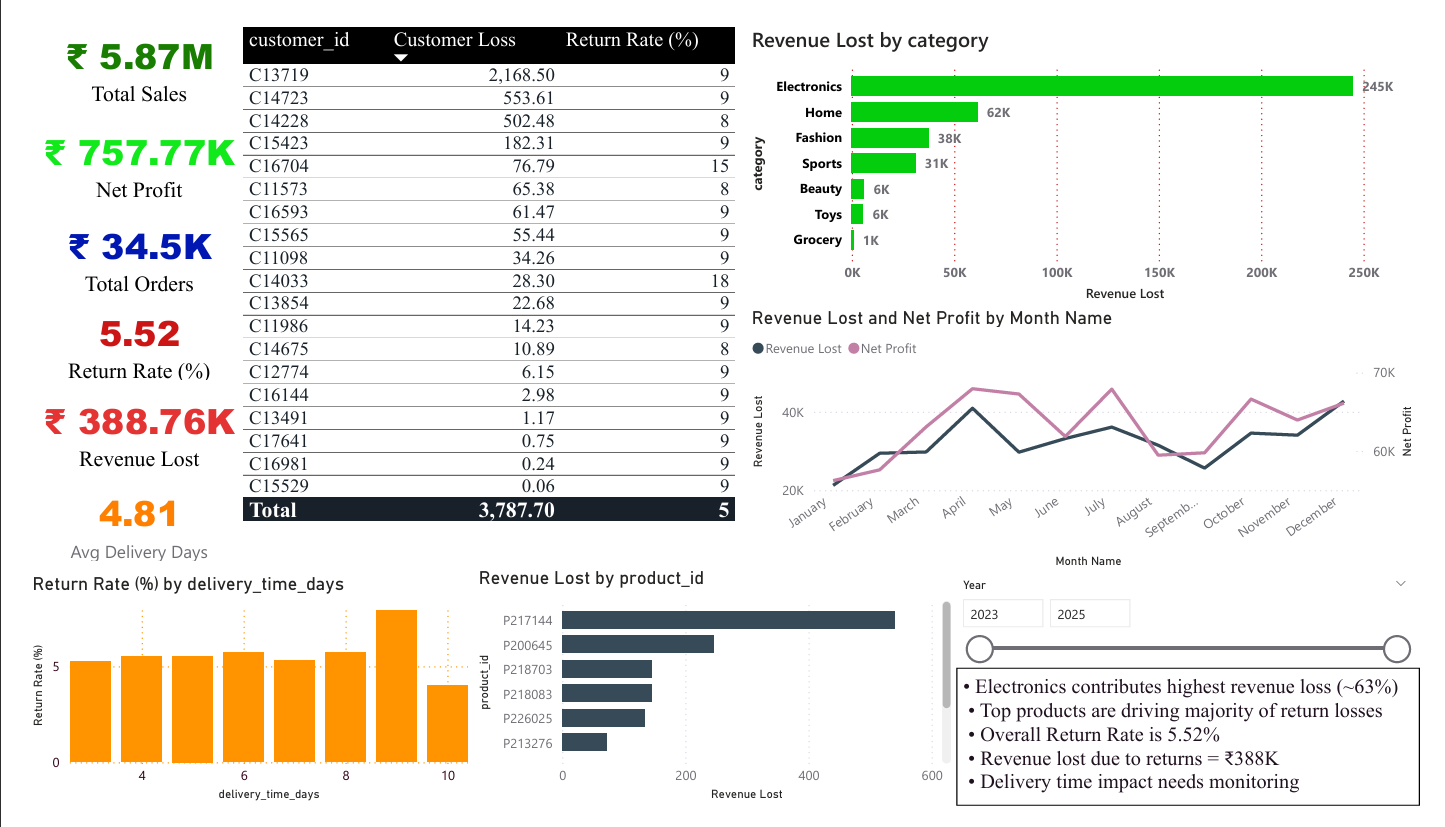

Layout of this report page (visuals, bound fields, positions):
{"tool":"powerbi","page":{"name":"E-Commerce Profit & Return Analysis Dashboard","canvas":[1280,720],"ordinal":0},"visuals":[{"type":"card","fields":{"Values":["ecommerce_sales_34500.Net Profit"]},"box":[0,85.7,205.7,88.6],"z":0},{"type":"card","fields":{"Values":["ecommerce_sales_34500.Total Sales"]},"box":[0,0,205.7,82.9],"z":1000},{"type":"card","fields":{"Values":["ecommerce_sales_34500.Total Orders"]},"box":[0,175.7,205.7,80],"z":2000},{"type":"card","fields":{"Values":["ecommerce_sales_34500.Return Rate (%)"]},"box":[0,258.6,205.7,74.3],"z":3000},{"type":"card","fields":{"Values":["ecommerce_sales_34500.Revenue Lost"]},"box":[0,334.3,205.7,85.7],"z":4000},{"type":"card","fields":{"Values":["ecommerce_sales_34500.Avg Delivery Days"]},"box":[0,422.9,205.7,77.1],"z":7000},{"type":"slicer","fields":{"Values":["ecommerce_sales_34500.Year"]},"box":[847.1,505.7,432.9,87.1],"z":7500},{"type":"barChart","fields":{"Y":["ecommerce_sales_34500.Revenue Lost"],"Category":["ecommerce_sales_34500.product_id"]},"box":[410,500,444.3,220],"z":8000},{"type":"tableEx","fields":{"Values":["ecommerce_sales_34500.customer_id","ecommerce_sales_34500.Customer Loss","ecommerce_sales_34500.Return Rate (%)"]},"box":[192.9,0,482.9,500],"z":9000},{"type":"clusteredColumnChart","fields":{"Category":["ecommerce_sales_34500.delivery_time_days"],"Y":["ecommerce_sales_34500.Return Rate (%)"]},"box":[0,505.7,410,214.3],"z":11000},{"type":"textbox","box":[854.3,592.9,425.7,127.1],"z":12000},{"type":"lineChart","fields":{"Y2":["ecommerce_sales_34500.Net Profit"],"Category":["ecommerce_sales_34500.Month Name"],"Y":["ecommerce_sales_34500.Revenue Lost"]},"box":[661.4,261.4,618.6,244.3],"z":12500},{"type":"clusteredBarChart","fields":{"Y":["ecommerce_sales_34500.Revenue Lost"],"Category":["ecommerce_sales_34500.category"]},"box":[661.4,2.9,618.6,258.6],"z":13000}]}

Visuals, with their boxes in screenshot pixels (x1, y1, x2, y2), scaled from the page's 1280x720 canvas onto the 1445x827 screenshot:
card - ecommerce_sales_34500.Net Profit: x1=0 y1=98 x2=232 y2=200
card - ecommerce_sales_34500.Total Sales: x1=0 y1=0 x2=232 y2=95
card - ecommerce_sales_34500.Total Orders: x1=0 y1=202 x2=232 y2=294
card - ecommerce_sales_34500.Return Rate (%): x1=0 y1=297 x2=232 y2=382
card - ecommerce_sales_34500.Revenue Lost: x1=0 y1=384 x2=232 y2=482
card - ecommerce_sales_34500.Avg Delivery Days: x1=0 y1=486 x2=232 y2=574
slicer - ecommerce_sales_34500.Year: x1=956 y1=581 x2=1444 y2=681
barChart - ecommerce_sales_34500.Revenue Lost x ecommerce_sales_34500.product_id: x1=463 y1=574 x2=964 y2=826
tableEx - ecommerce_sales_34500.customer_id x ecommerce_sales_34500.Customer Loss: x1=218 y1=0 x2=763 y2=574
clusteredColumnChart - ecommerce_sales_34500.delivery_time_days x ecommerce_sales_34500.Return Rate (%): x1=0 y1=581 x2=463 y2=826
textbox: x1=964 y1=681 x2=1444 y2=826
lineChart - ecommerce_sales_34500.Net Profit x ecommerce_sales_34500.Month Name: x1=747 y1=300 x2=1444 y2=581
clusteredBarChart - ecommerce_sales_34500.Revenue Lost x ecommerce_sales_34500.category: x1=747 y1=3 x2=1444 y2=300
